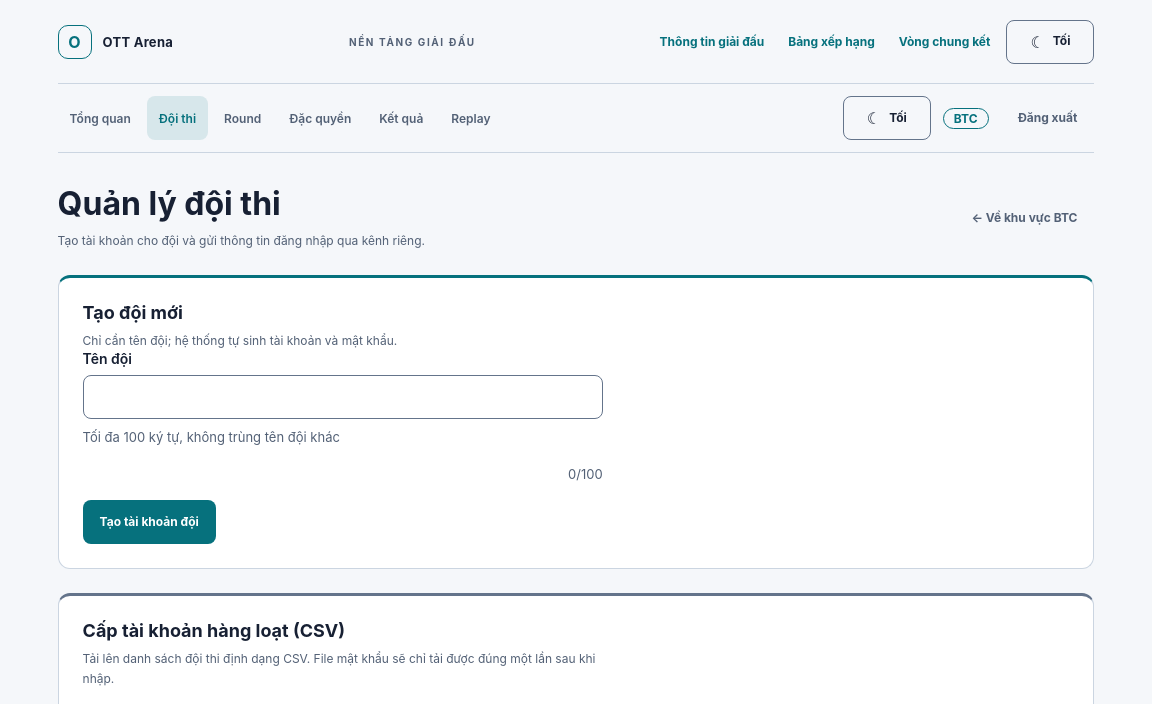
Test case: BTC team provisioning › copies the one-time credentials on request
Type "Gamma" into the field labelled "Tên đội" at (343, 397), box [83,375,603,419]
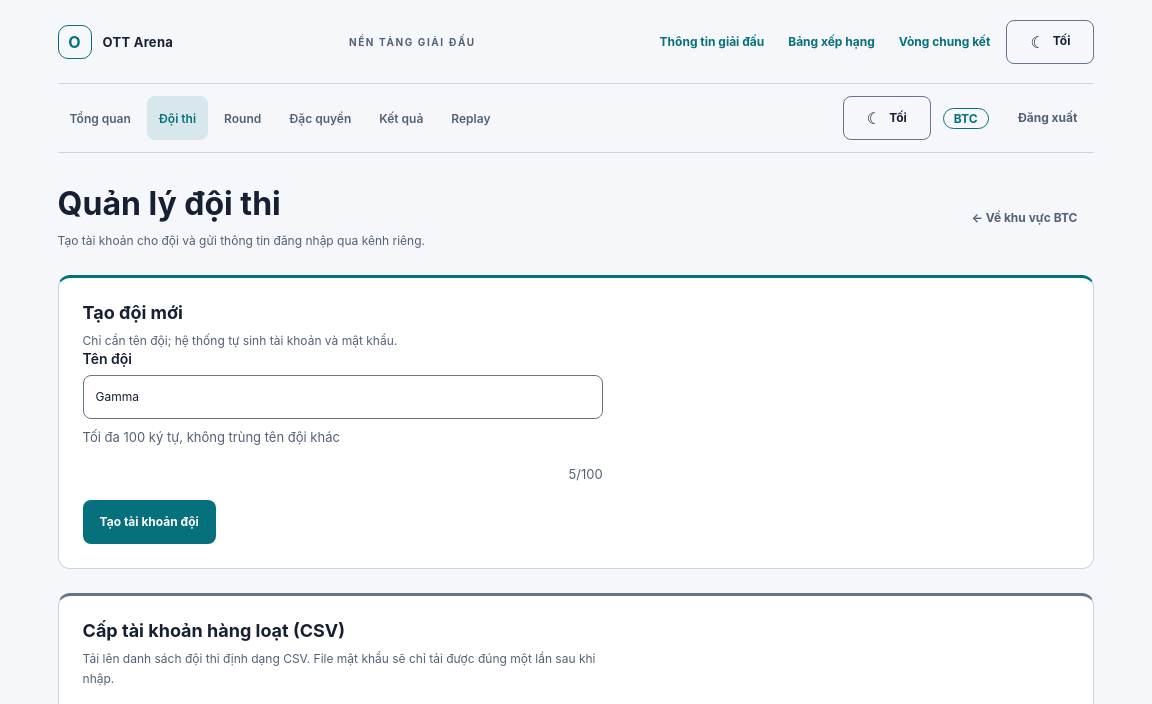
Submit the form named "tạo đội", box [83,350,603,544]
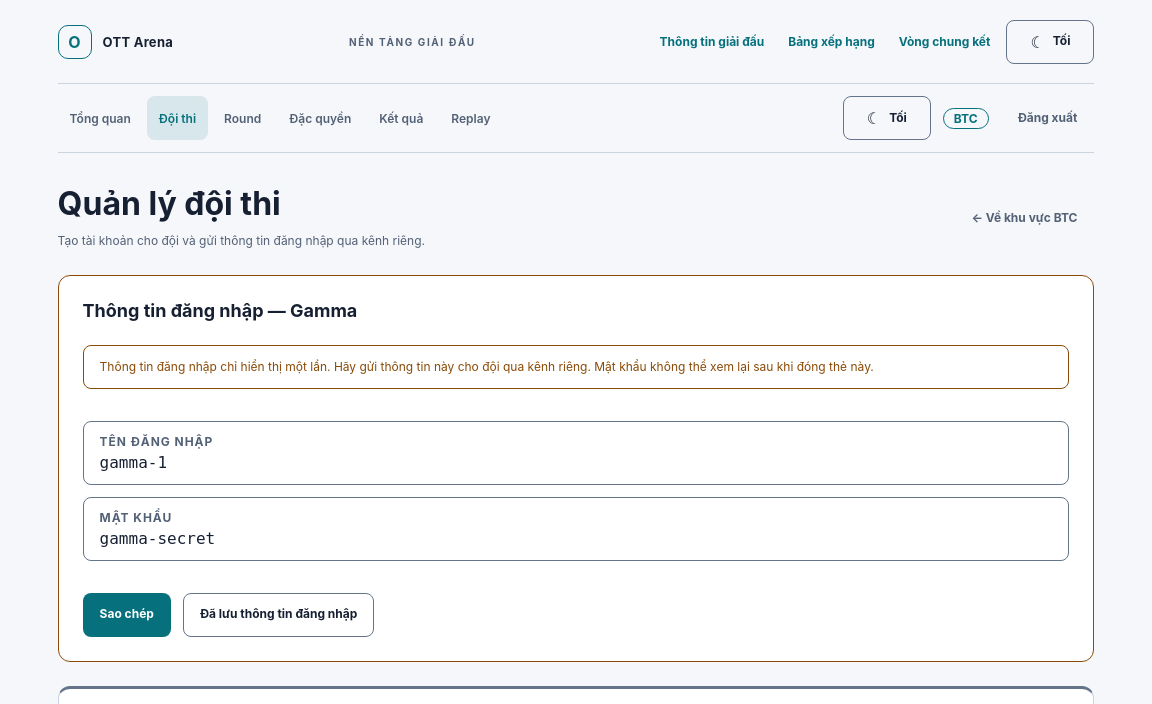
Click the button "Sao chép" at (127, 615), box [83,593,171,637]
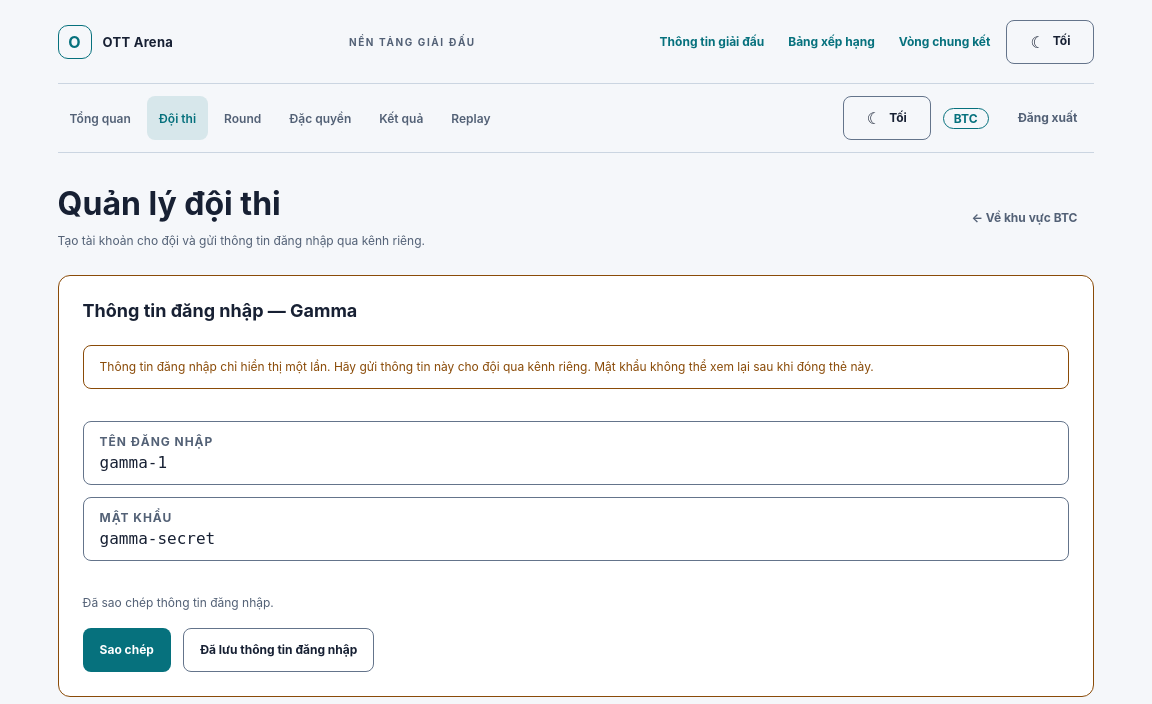
Result: the text "Đã sao chép thông tin đăng nhập." is shown at [83,595,274,610]
